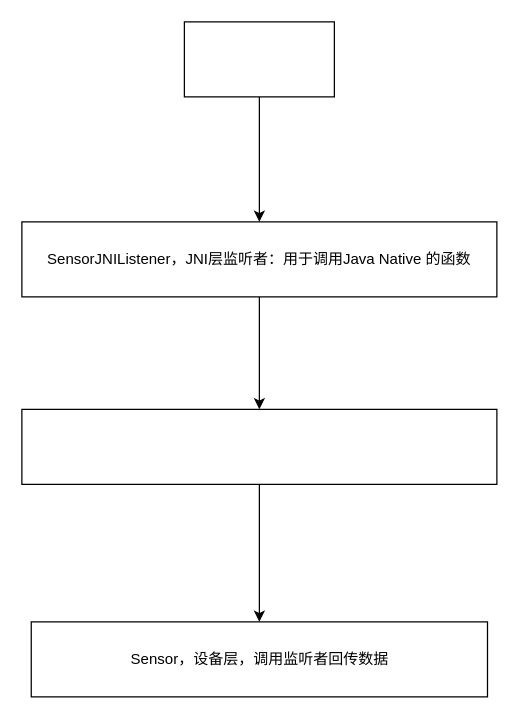
Some shapes in this 519 by 719 pixel diagram are drawn without their labels. The shapes that lost their labels are listed below. From the top down, each one's centre as x and y in pixels, then its label:
point 258,59: JAVA Native: funcA
point 259,446: SensorListener，设备层监听者：用于调用JNI监听者的回调函数
